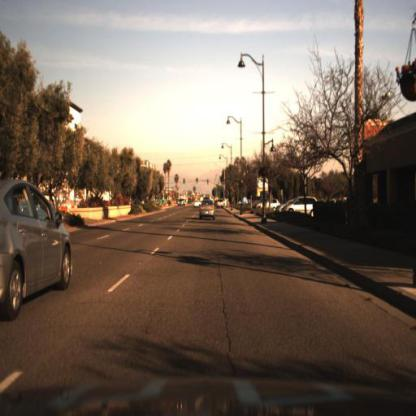car: (1, 169, 77, 330), (281, 195, 321, 224), (283, 191, 319, 219), (197, 198, 219, 223), (259, 193, 284, 213), (275, 201, 284, 219)
